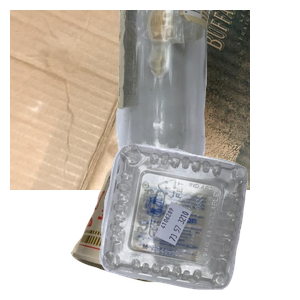cardboard: (10, 10, 250, 190)
glass: (113, 10, 300, 190)
plastic: (97, 141, 300, 300)
trash: (68, 158, 235, 300)
